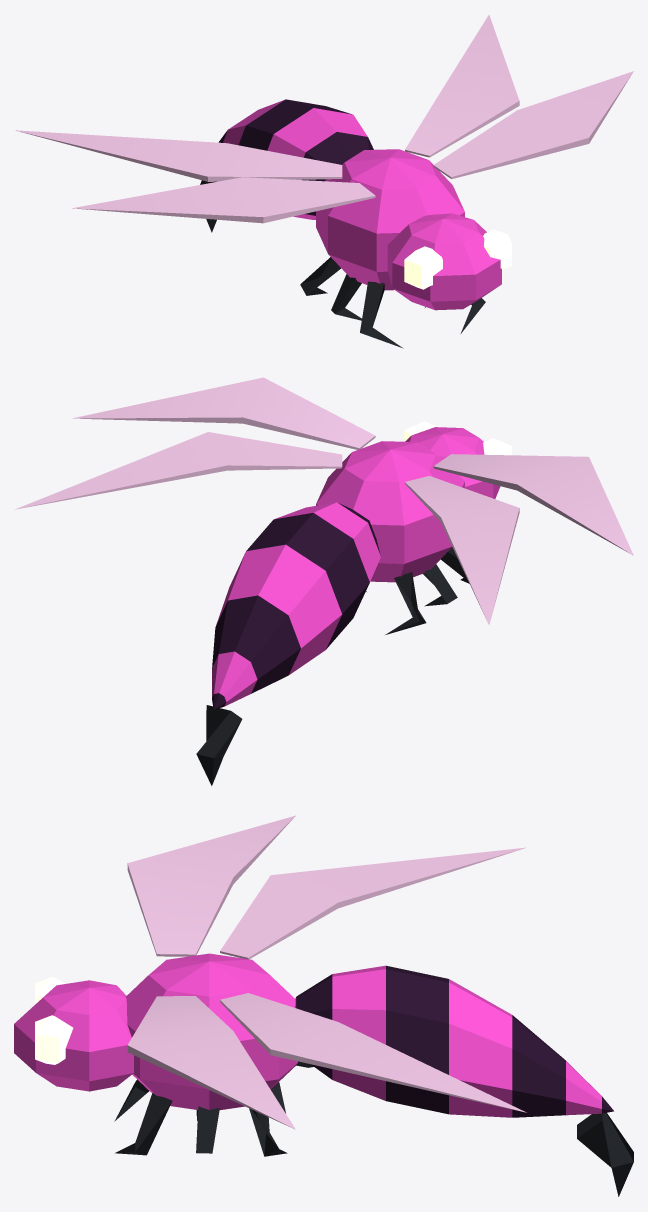
Rendered from wasp.glb.
3 views of the same model, one above another, from view 1: azimuth 30°, elevation 25°; view 2: azimuth 150°, elevation 25°; view 3: azimuth 270°, elevation 25° (orthographic). The views are drawn at different scales.
Visible parts, largest first — view 1: body, wing_L1, wing_R1, wing_R2, wing_L2; view 2: body, wing_L1, wing_L2, wing_R1, wing_R2, sway_stinger; view 3: body, wing_R1, wing_R2, wing_L2, wing_L1, sway_stinger.
Boxes of the visible parts, box(x1,y1,x2,y2) form: body: box(218, 99, 511, 348); wing_L1: box(433, 71, 633, 179); wing_R1: box(72, 177, 375, 223); wing_R2: box(15, 130, 342, 181); wing_L2: box(405, 14, 519, 157); body: box(212, 421, 511, 709); wing_L1: box(72, 377, 375, 449); wing_L2: box(15, 432, 342, 509); wing_R1: box(433, 454, 633, 555); wing_R2: box(405, 476, 519, 625); sway_stinger: box(196, 705, 242, 785); body: box(14, 953, 613, 1156); wing_R1: box(127, 815, 295, 956); wing_R2: box(220, 847, 525, 959); wing_L2: box(220, 993, 526, 1112); wing_L1: box(127, 996, 295, 1129); sway_stinger: box(577, 1113, 633, 1196).
Size of the model in its own units: 9 by 3.25 by 7.5.
